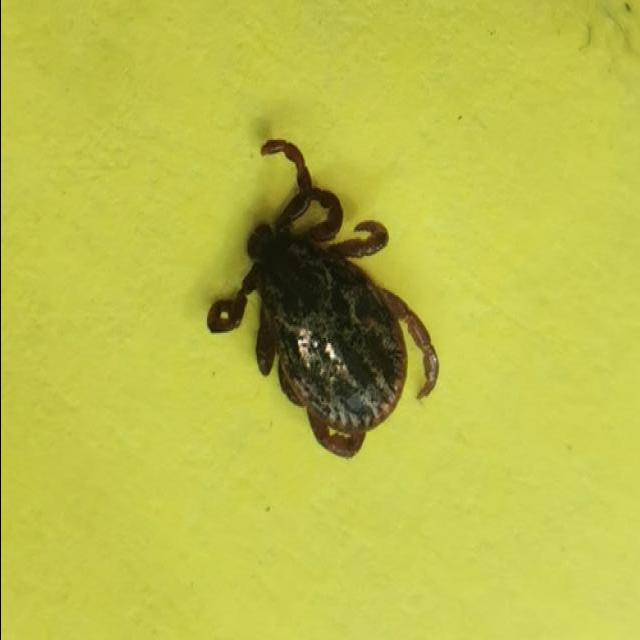Dermacentor Reticulatus-M: (209, 143, 433, 459)
